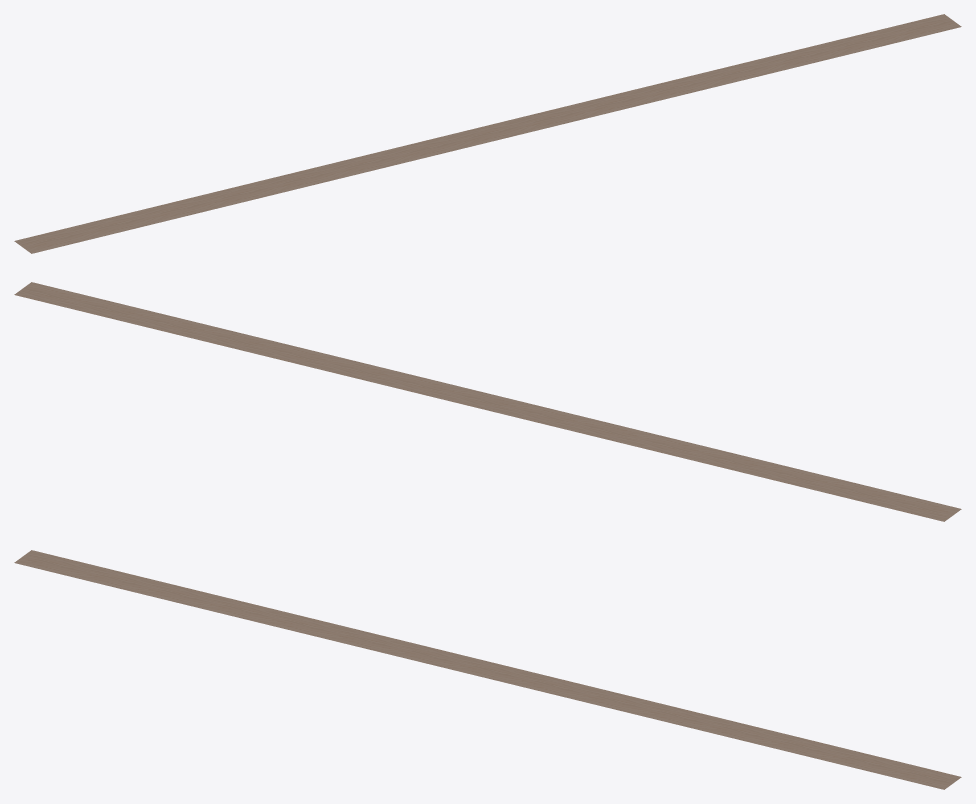
File: kd_stage_135b75_4_17_bounded_portal_piece_4.glb
The picture shows the model from 3 angles, top to bottom: view 1: azimuth 30°, elevation 25°; view 2: azimuth 150°, elevation 25°; view 3: azimuth 330°, elevation 25°; orthographic projection.
Visible parts, largest first — view 1: kd_stage_135b75_4_17_bounded_portal_piece_4; view 2: kd_stage_135b75_4_17_bounded_portal_piece_4; view 3: kd_stage_135b75_4_17_bounded_portal_piece_4.
Part boxes in pixels (x1,y1,x2,y2): kd_stage_135b75_4_17_bounded_portal_piece_4: (14,14,961,253); kd_stage_135b75_4_17_bounded_portal_piece_4: (14,282,961,521); kd_stage_135b75_4_17_bounded_portal_piece_4: (14,550,961,789).
Bounding box in the file's own units: 3.54 × 0 × 0.1162.
1 material, 1 textured.
